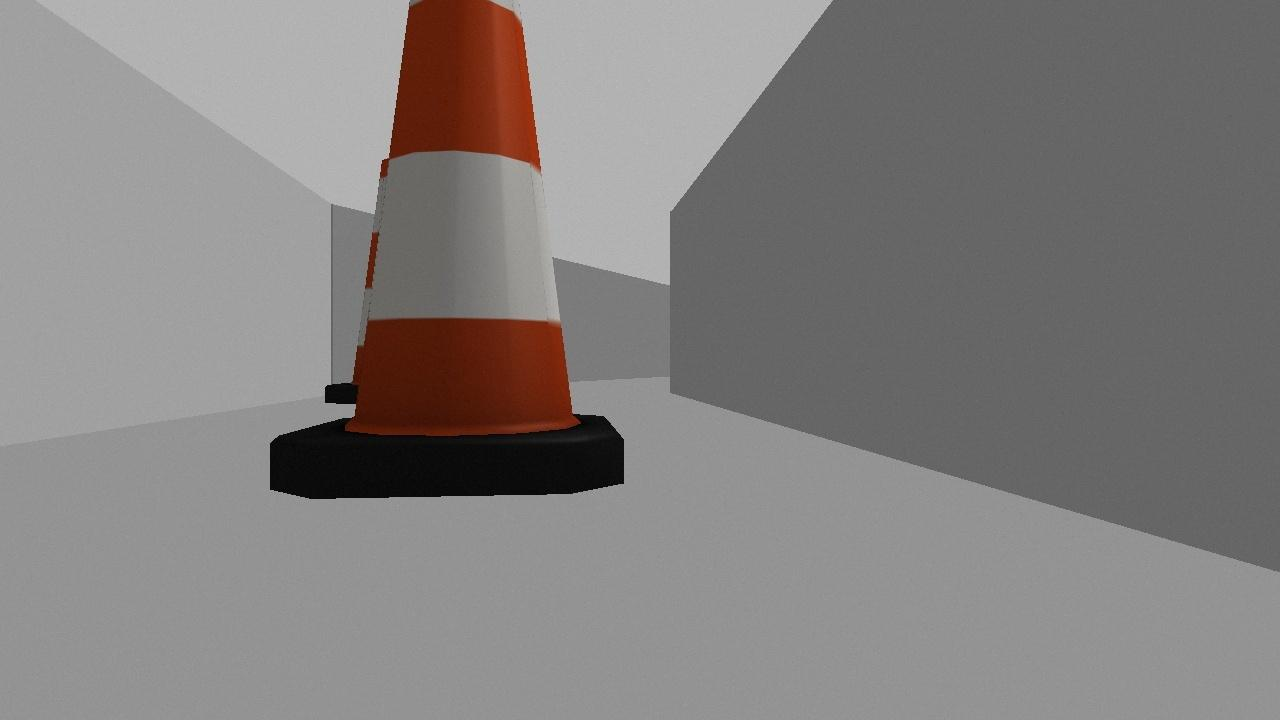cone_barrel: (268, 0, 624, 499)
